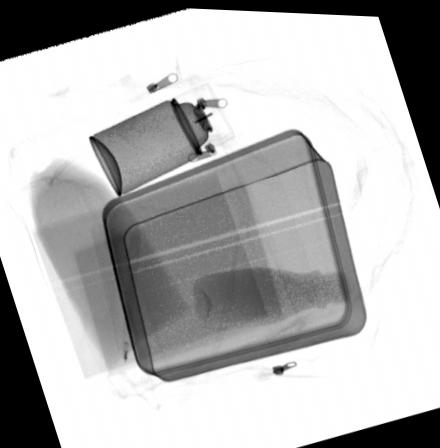Sprayer: (86, 78, 236, 197)
